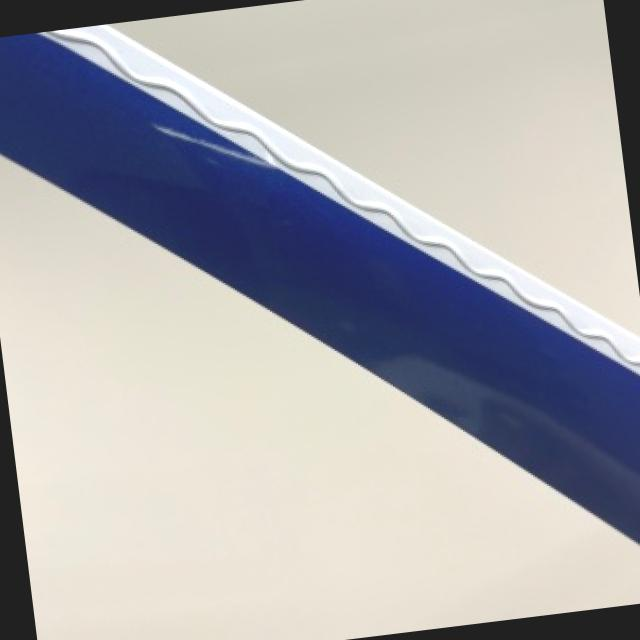healthy: (0, 155, 640, 640)
